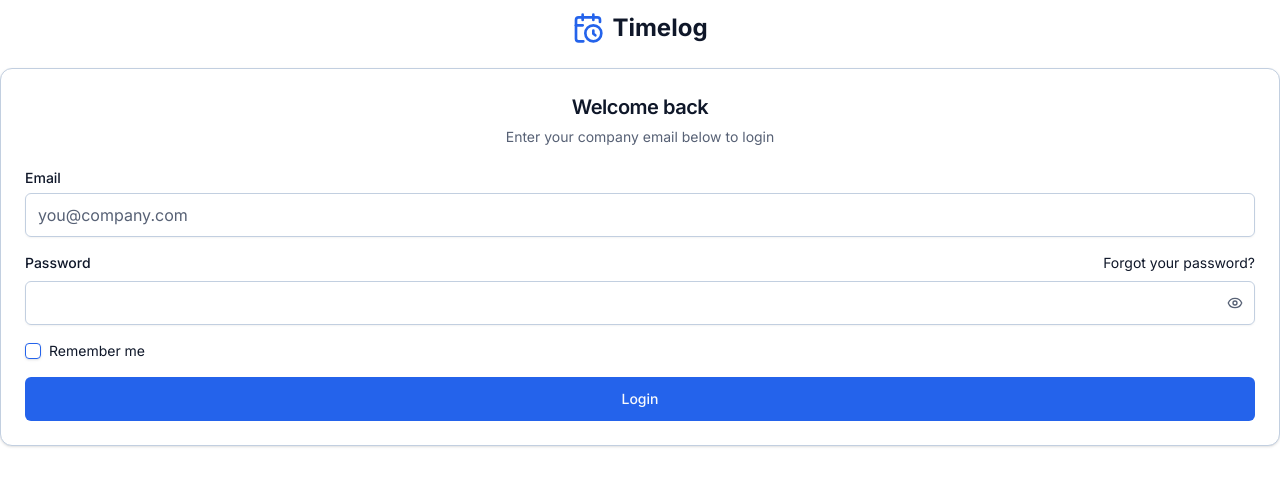
LoginForm › password validation (AC7) › should show error when password is empty
# Enter email but no password
Type "user@company.com" into the field labelled "Email" at (640, 215), box x1=25 y1=193 x2=1255 y2=237
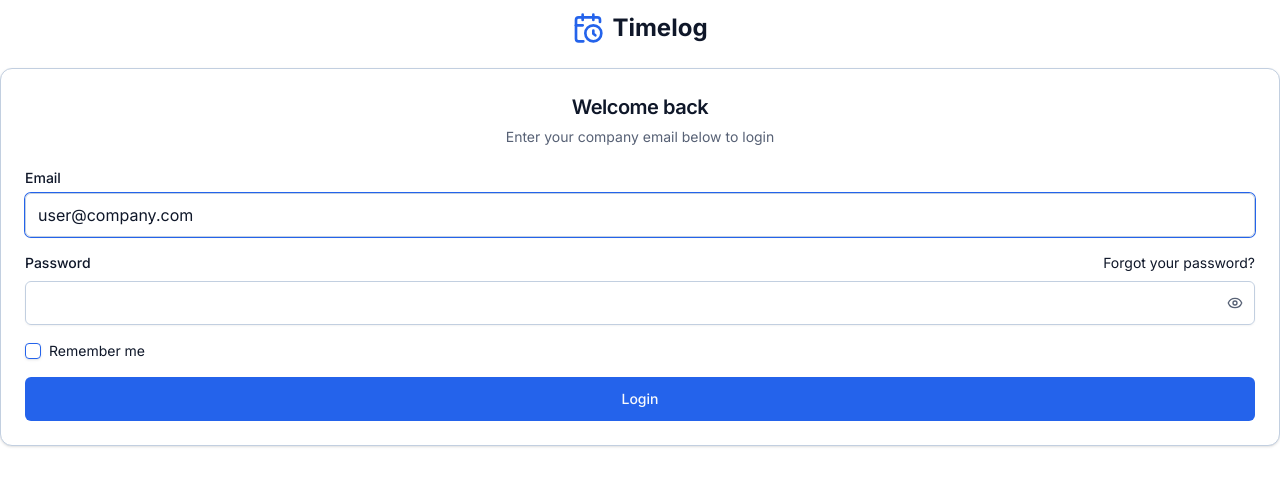
Click the button "Login" at (640, 399), box x1=25 y1=377 x2=1255 y2=421
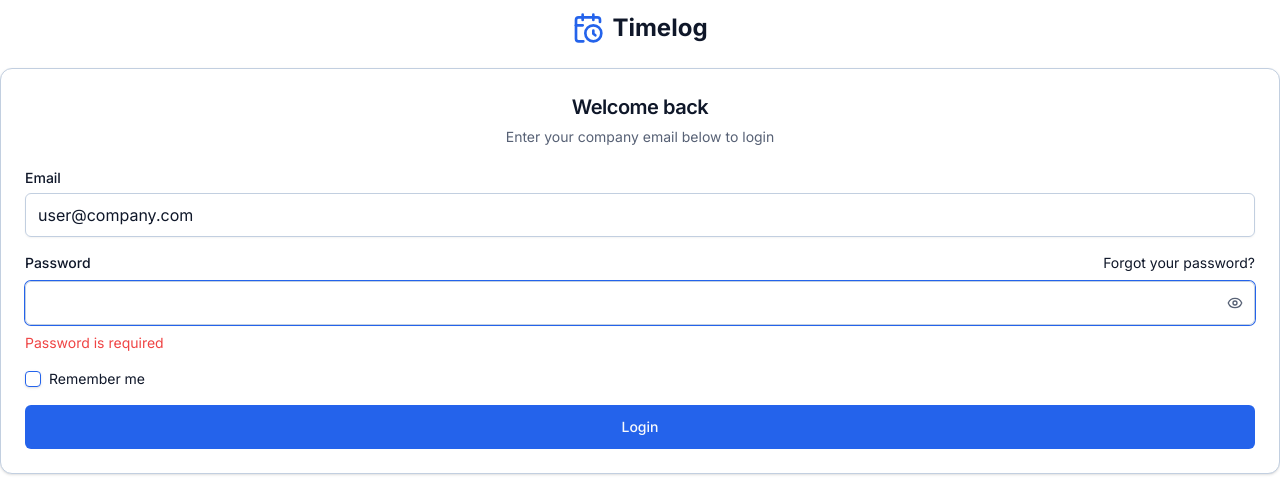
Expected: the text "Password is required" is shown, x1=25 y1=334 x2=164 y2=351
